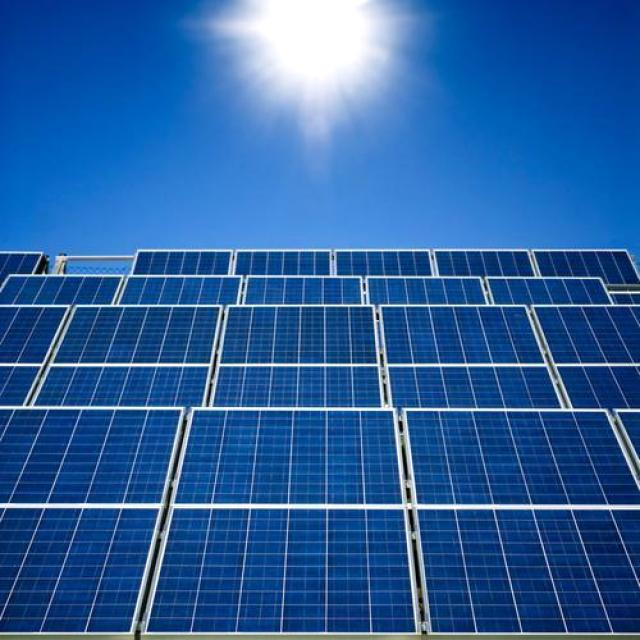crack: (152, 403, 416, 640), (385, 407, 640, 640), (33, 303, 272, 441), (357, 296, 597, 428), (208, 302, 406, 422), (528, 303, 640, 442)
